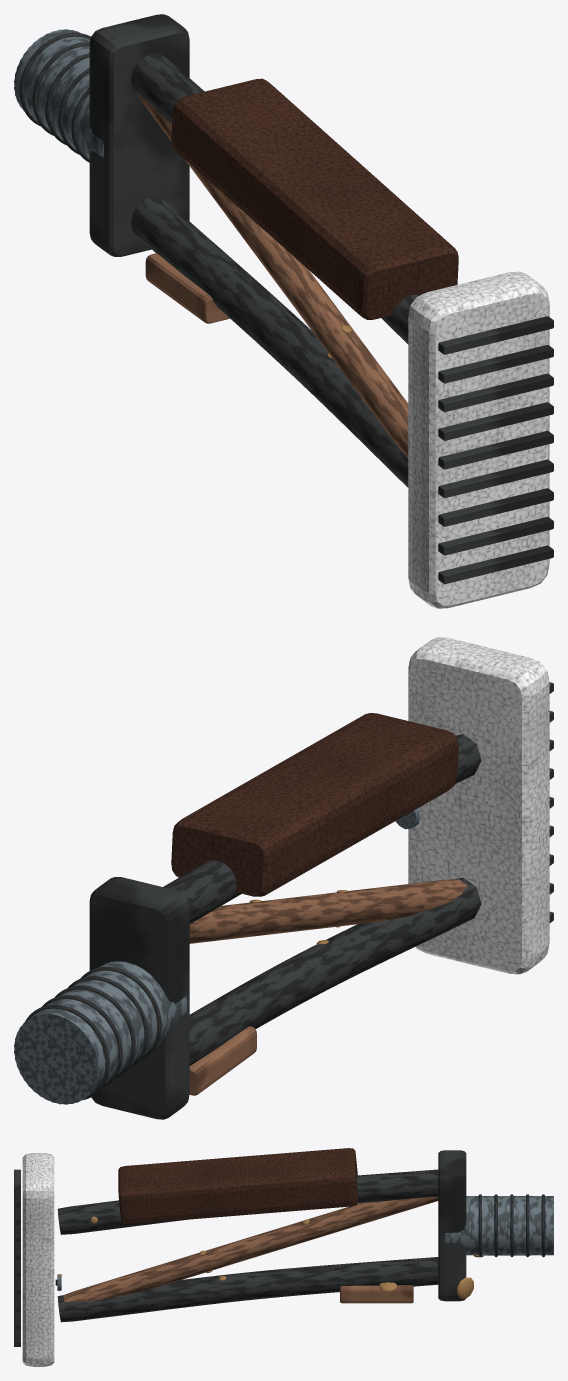
The picture shows the model from 3 angles, top to bottom: view 1: azimuth 30°, elevation 25°; view 2: azimuth 150°, elevation 25°; view 3: azimuth 270°, elevation 25°; orthographic projection. The views are drawn at different scales.
Parts seen in each view (by area): view 1: machined receiver, saddle leather, vulcanized grip, edge hardware, brushed steel; view 2: vulcanized grip, machined receiver, saddle leather, brushed steel, edge hardware; view 3: machined receiver, saddle leather, edge hardware, vulcanized grip, brushed steel, peened pin.
Boxes of the visible parts, x1=… form: machined receiver: x1=19, y1=14, x2=553, y2=584; saddle leather: x1=171, y1=78, x2=458, y2=319; vulcanized grip: x1=408, y1=271, x2=549, y2=608; edge hardware: x1=137, y1=93, x2=408, y2=457; brushed steel: x1=14, y1=29, x2=103, y2=159; vulcanized grip: x1=408, y1=637, x2=549, y2=974; machined receiver: x1=25, y1=682, x2=553, y2=1119; saddle leather: x1=171, y1=713, x2=458, y2=896; brushed steel: x1=14, y1=809, x2=419, y2=1104; edge hardware: x1=189, y1=879, x2=468, y2=1095; machined receiver: x1=14, y1=1150, x2=545, y2=1346; saddle leather: x1=118, y1=1148, x2=358, y2=1224; edge hardware: x1=63, y1=1196, x2=438, y2=1303; vulcanized grip: x1=22, y1=1153, x2=54, y2=1366; brushed steel: x1=57, y1=1196, x2=553, y2=1290; peened pin: x1=90, y1=1216, x2=473, y2=1298.
Size of the model in its own units: 0.0518 by 0.1215 by 0.308.
Materials: 7 (5 with a texture image).
